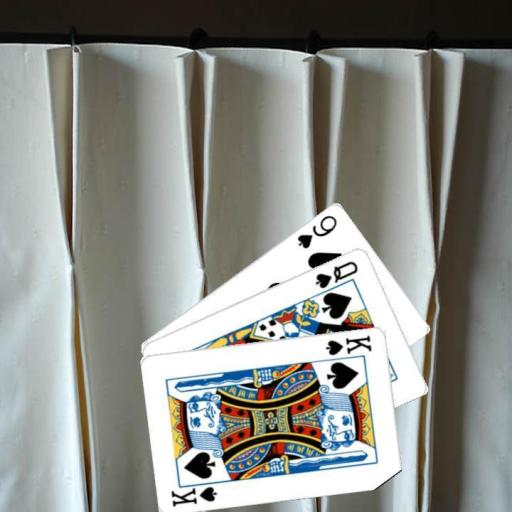card-corner: (168, 477, 222, 508), (294, 212, 338, 250), (311, 258, 360, 290), (322, 332, 373, 356)
